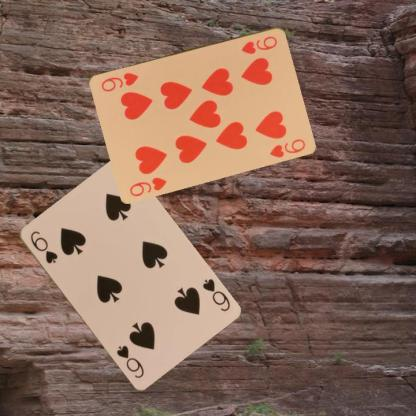6s: (27, 228, 59, 265), (199, 276, 231, 312)
9h: (127, 174, 168, 198), (238, 33, 278, 55)
